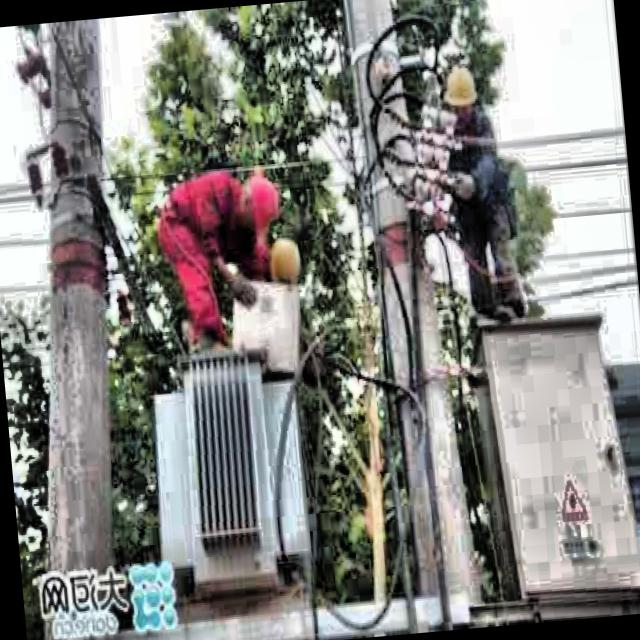helmet: (238, 170, 285, 238), (438, 58, 478, 129), (256, 230, 302, 289)
